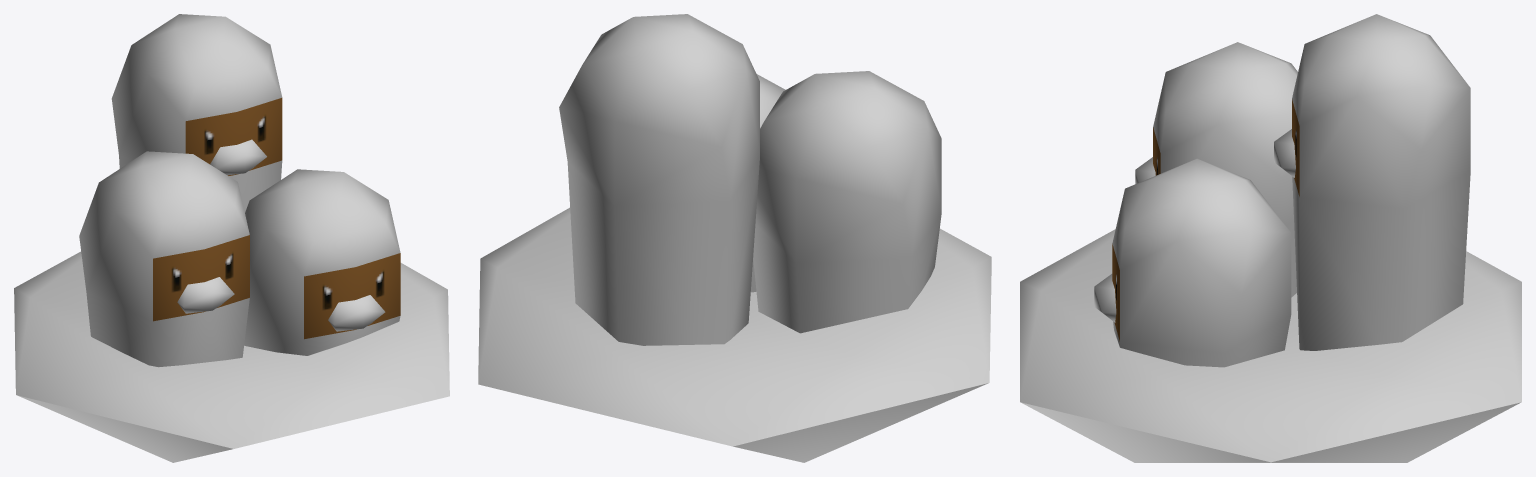
File: Dugtrio.obj
The picture shows the model from 3 angles, left to right: view 1: azimuth 30°, elevation 25°; view 2: azimuth 150°, elevation 25°; view 3: azimuth 270°, elevation 25°; orthographic projection. The views are drawn at different scales.
Parts seen in each view (by area): view 1: merged_0_0_node, merged_1_0_node; view 2: merged_0_0_node; view 3: merged_0_0_node, merged_1_0_node.
Boxes of the visible parts, x1,y1,x2,y2 form: merged_0_0_node: (14,14,449,462); merged_1_0_node: (153,98,400,339); merged_0_0_node: (478,14,991,462); merged_0_0_node: (1020,14,1521,462); merged_1_0_node: (1112,99,1299,341).
Bounding box in the file's own units: 1.1 × 0.7998 × 0.9655.
